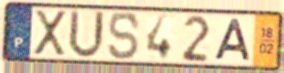2: (182, 13, 213, 64)
4: (145, 13, 175, 62)
A: (213, 18, 253, 63)
S: (107, 11, 141, 62)
U: (66, 8, 106, 61)
X: (33, 8, 68, 58)
